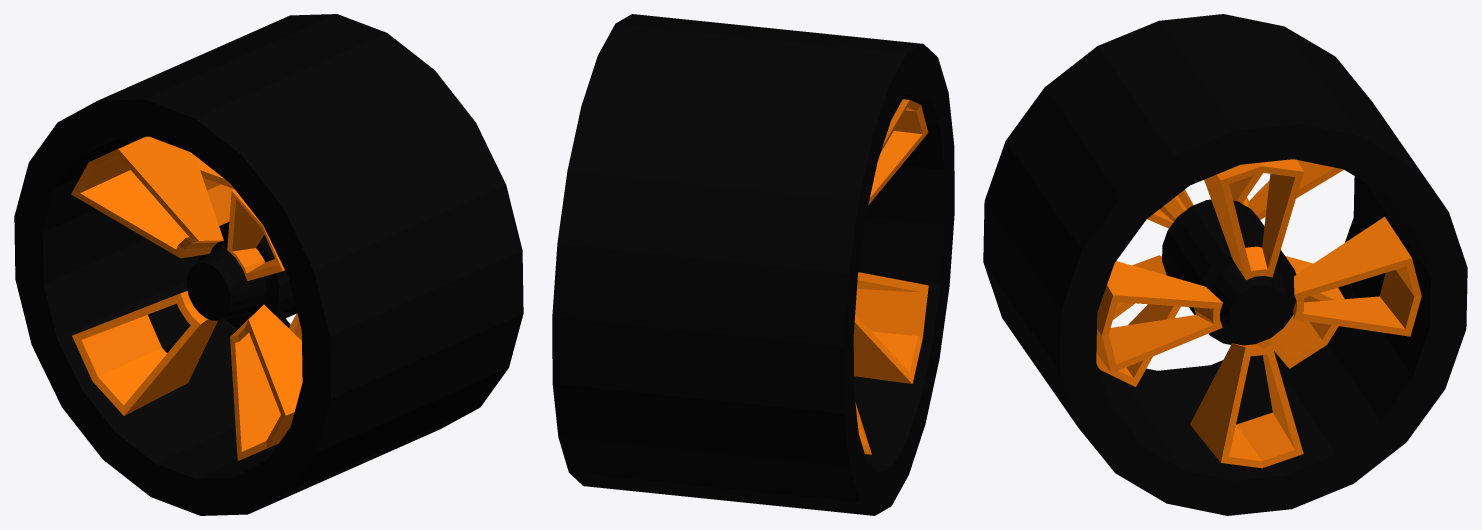
The model's file is car_new_koleso_prave.fbx.
The picture shows the model from 3 angles, left to right: view 1: azimuth 30°, elevation 25°; view 2: azimuth 150°, elevation 25°; view 3: azimuth 270°, elevation 25°; orthographic projection. The views are drawn at different scales.
Parts seen in each view (by area): view 1: Plane.010; view 2: Plane.010; view 3: Plane.010.
Boxes of the visible parts, box(x1,y1,x2,y2) form: Plane.010: box(14, 14, 523, 515); Plane.010: box(552, 14, 954, 515); Plane.010: box(983, 14, 1467, 515).
Size of the model in its own units: 103 by 115 by 131.
